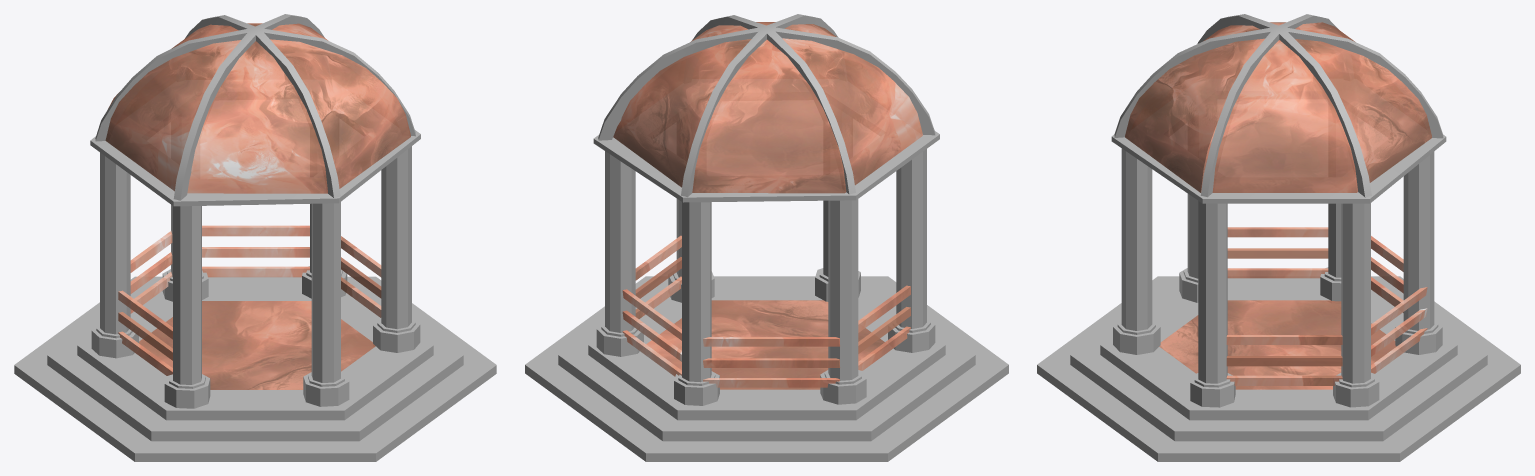
The model's file is salt-crystal-gazebo.glb.
The picture shows the model from 3 angles, left to right: view 1: azimuth 30°, elevation 25°; view 2: azimuth 150°, elevation 25°; view 3: azimuth 270°, elevation 25°; orthographic projection.
Visible parts, largest first — view 1: gazebo; view 2: gazebo; view 3: gazebo.
Part boxes in pixels (bbox=[...]): gazebo: bbox=[14, 14, 496, 461]; gazebo: bbox=[525, 14, 1008, 461]; gazebo: bbox=[1037, 14, 1520, 461].
Size of what is drawn, in the model's own units: 6.03 by 5.46 by 6.96.
Materials: 2 (1 with a texture image).
